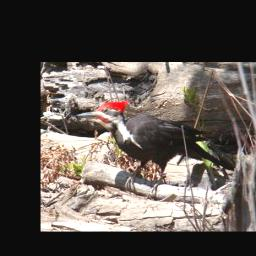Woodpecker: (74, 99, 235, 196)
